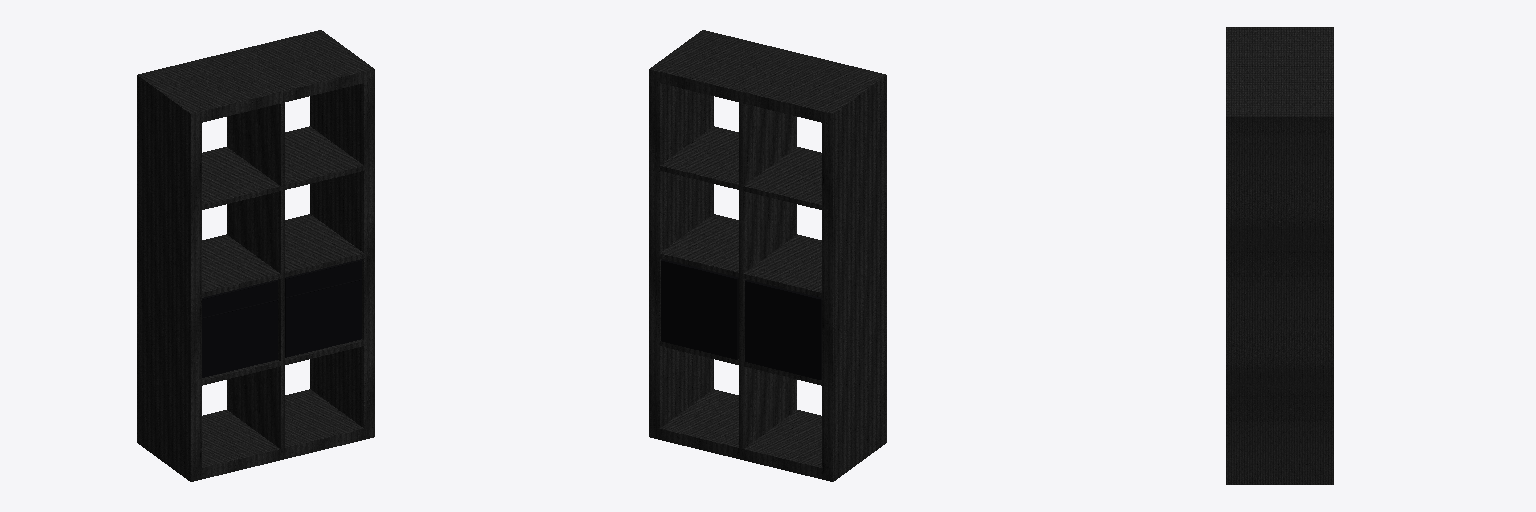
3 views of the same model, side by side, from view 1: azimuth 30°, elevation 25°; view 2: azimuth 150°, elevation 25°; view 3: azimuth 270°, elevation 25° (orthographic).
Parts seen in each view (by area): view 1: Rectangle002, Line001, Line007, Line006; view 2: Rectangle002, Line001, Line007, Line006; view 3: Rectangle002.
Part boxes in pixels (x1,y1,x2,y2): Rectangle002: (137, 30, 374, 481); Line001: (202, 103, 363, 448); Line007: (285, 259, 362, 357); Line006: (202, 280, 278, 377); Rectangle002: (649, 30, 886, 481); Line001: (660, 103, 821, 448); Line007: (661, 259, 738, 359); Line006: (745, 280, 821, 379); Rectangle002: (1226, 27, 1333, 484).
Bounding box in the file's own units: 770 × 1470 × 390.
Materials: 2 (1 with a texture image).